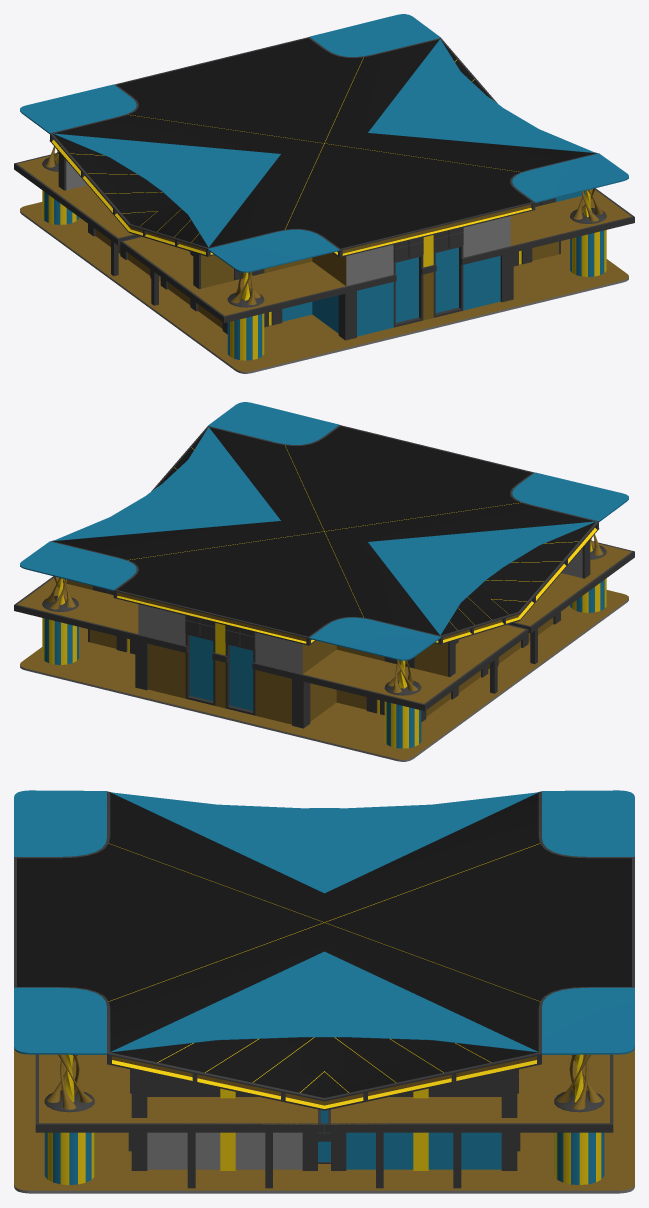
File: SM_MK10_Building_Middle_003.fbx
3 views of the same model, one above another, from view 1: azimuth 30°, elevation 25°; view 2: azimuth 150°, elevation 25°; view 3: azimuth 270°, elevation 25° (orthographic). The views are drawn at different scales.
Visible parts, largest first — view 1: SM_MK10_Building_Middle_003; view 2: SM_MK10_Building_Middle_003; view 3: SM_MK10_Building_Middle_003.
Boxes of the visible parts, left/top/right/bottom form: SM_MK10_Building_Middle_003: left=14, top=14, right=634, bottom=373; SM_MK10_Building_Middle_003: left=14, top=402, right=634, bottom=761; SM_MK10_Building_Middle_003: left=14, top=790, right=634, bottom=1193.
Bounding box in the file's own units: 2100 × 500 × 2000.
